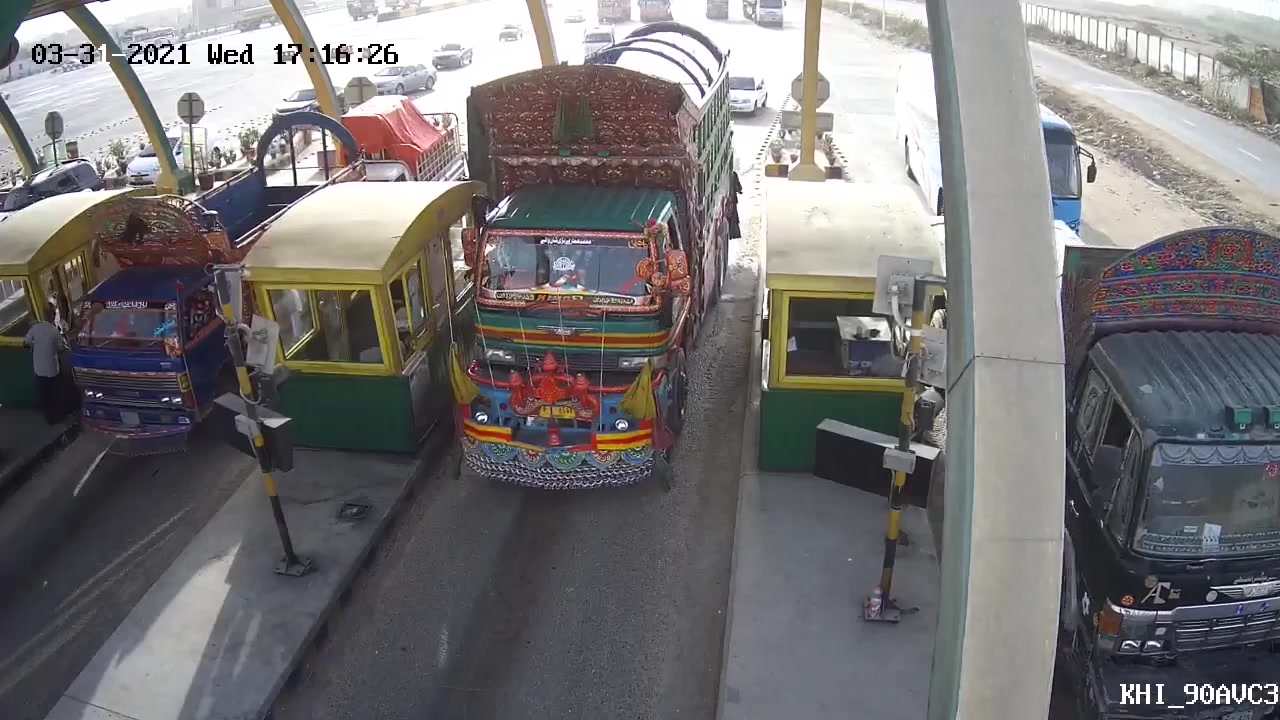F6: (427, 57, 725, 508)
